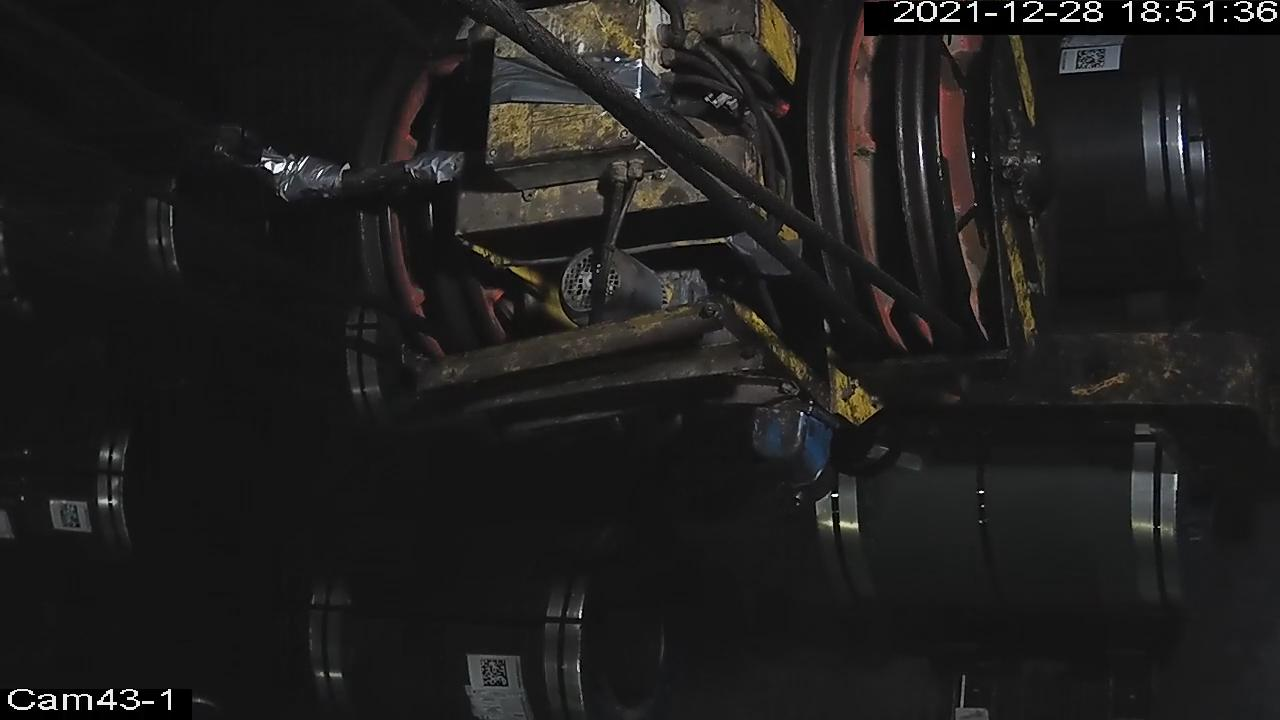data matrix: (478, 656, 512, 690), (1074, 46, 1110, 74)
